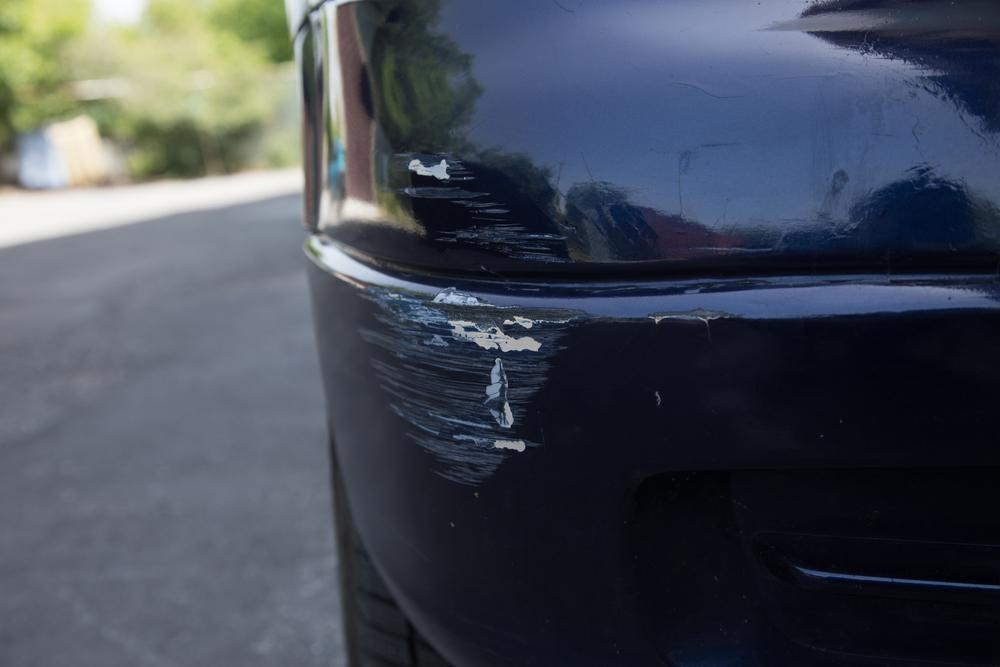scratch: (353, 280, 582, 494), (398, 137, 578, 271)
